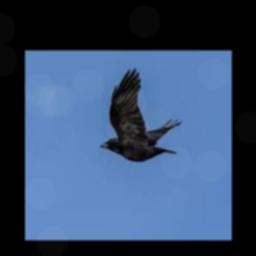Crow: (100, 68, 182, 161)
